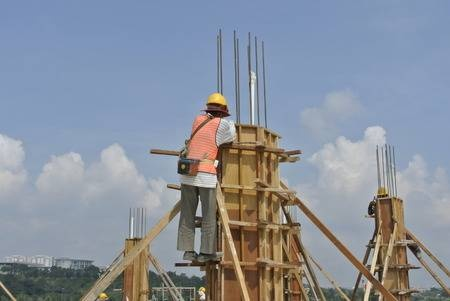yellow: (206, 93, 228, 117)
